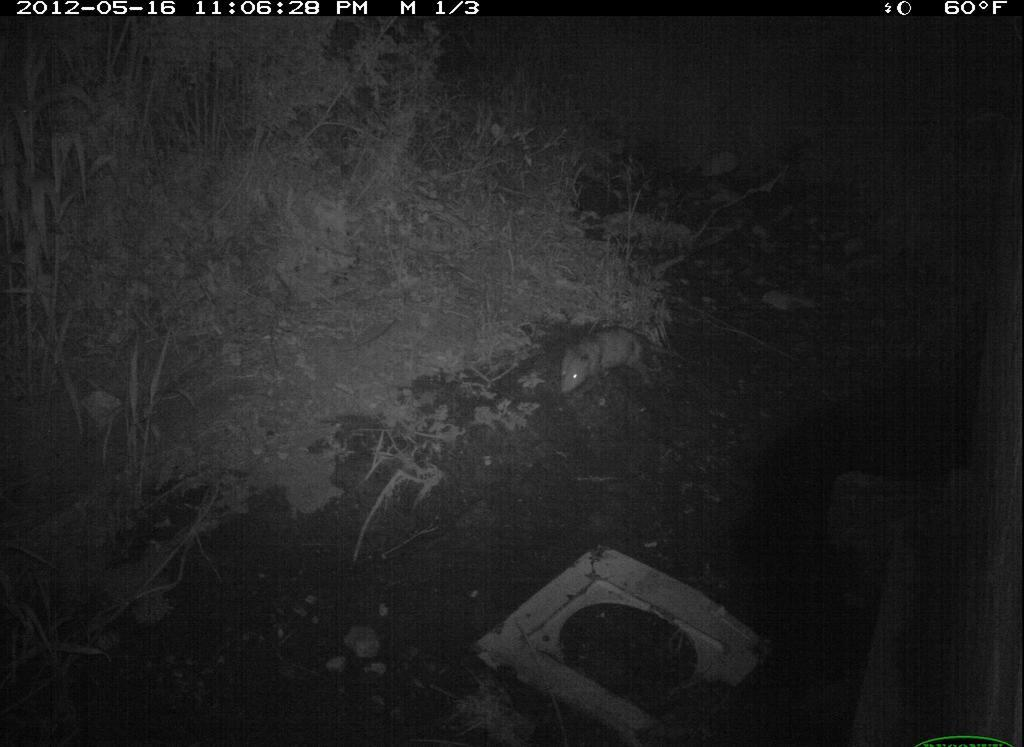opossum: (553, 319, 699, 401)
